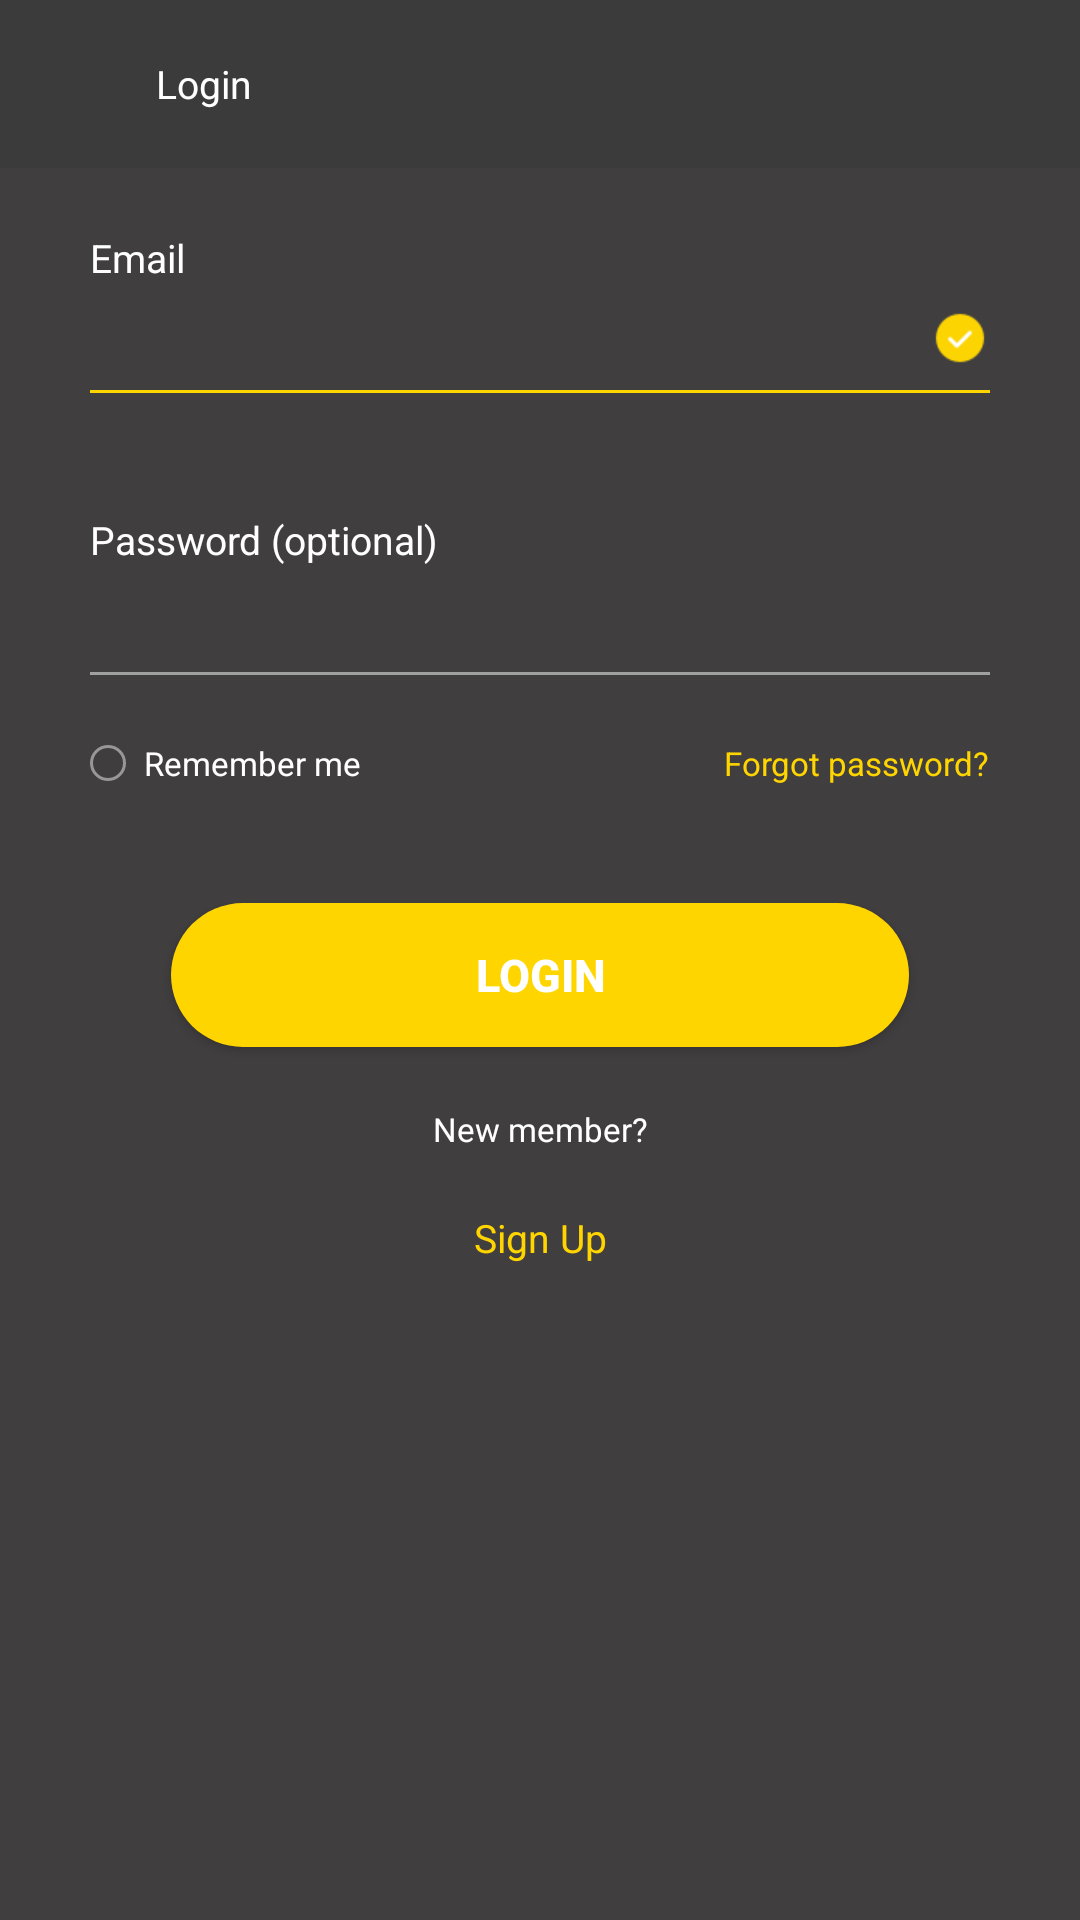

Screen size 1080×1920. Icon name, then its center in pixels as point (x, y):
check: point (960, 338)
